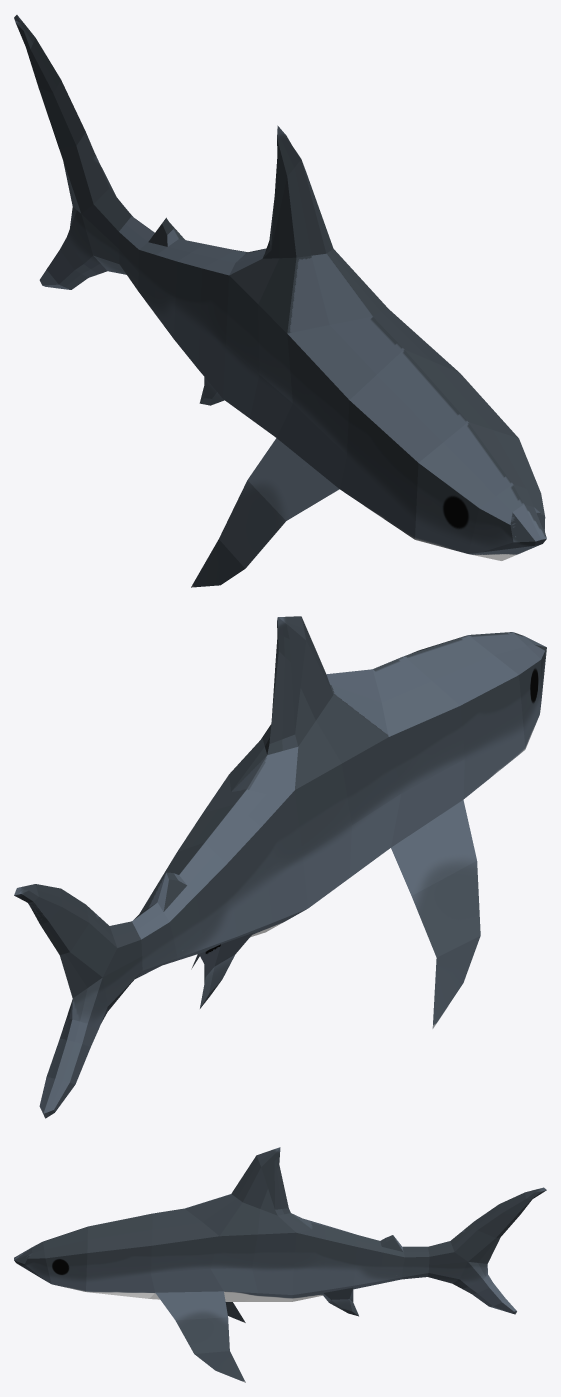
The model's file is SharkFishy.fbx.
3 renders of one model, top to bottom at view 1: azimuth 30°, elevation 25°; view 2: azimuth 150°, elevation 25°; view 3: azimuth 270°, elevation 25°, orthographic. The views are drawn at different scales.
Visible parts, largest first — view 1: Cube.001; view 2: Cube.001; view 3: Cube.001.
Part boxes in pixels (left/top/right/bottom): Cube.001: left=14, top=15, right=546, bottom=587; Cube.001: left=14, top=616, right=546, bottom=1118; Cube.001: left=14, top=1147, right=546, bottom=1382.
Bounding box in the file's own units: 55.07 × 88.33 × 207.
1 material, 1 textured.
